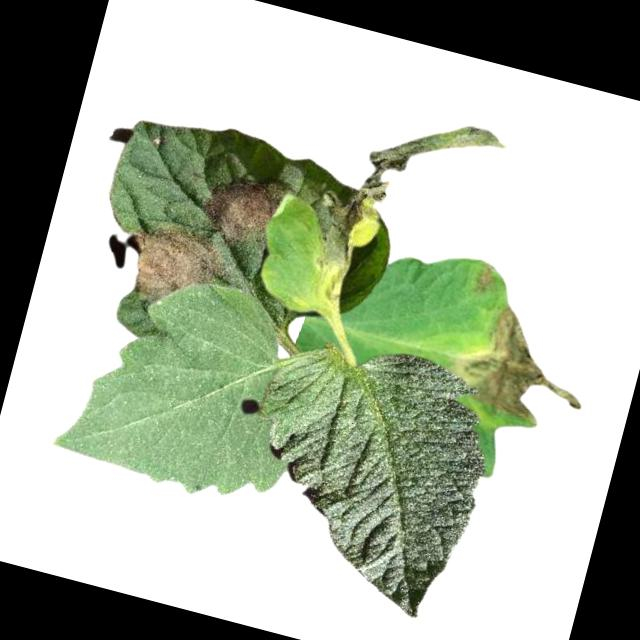Late_blight: (294, 92, 510, 324), (449, 296, 602, 435), (112, 216, 234, 326), (189, 161, 294, 257), (468, 260, 502, 300)
